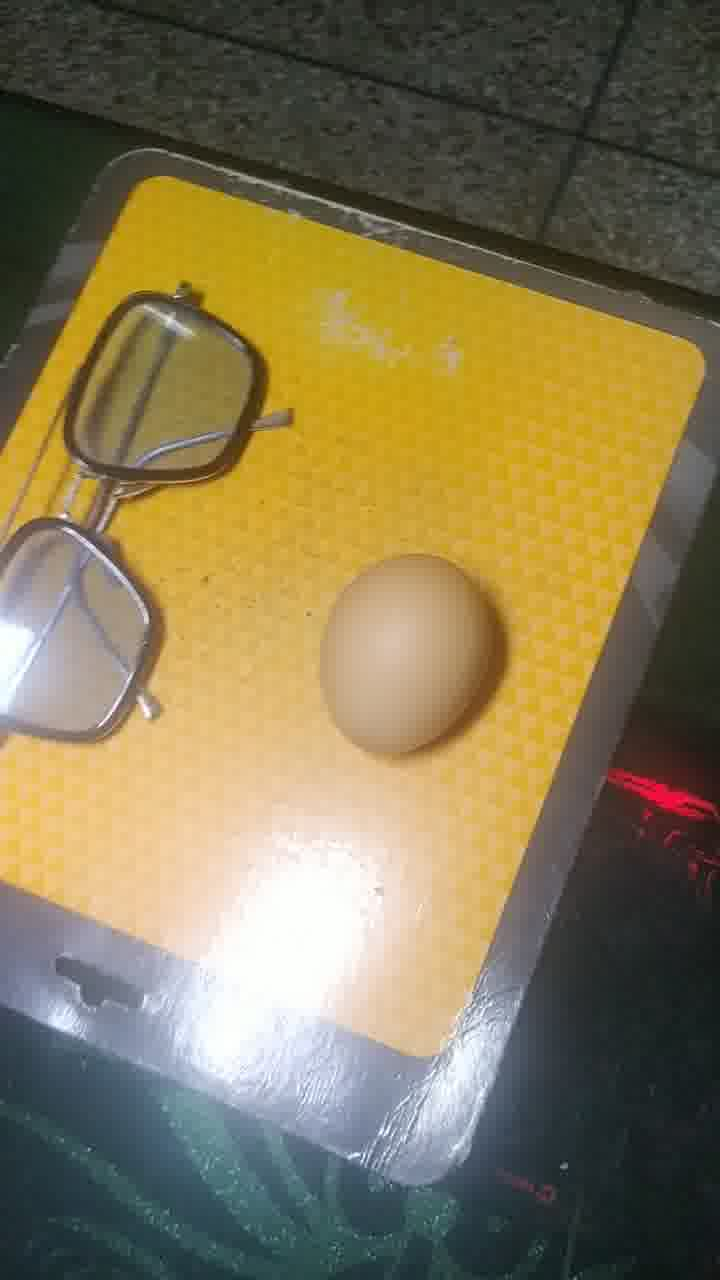egg: (303, 544, 506, 764)
sunglass: (3, 273, 300, 738)
